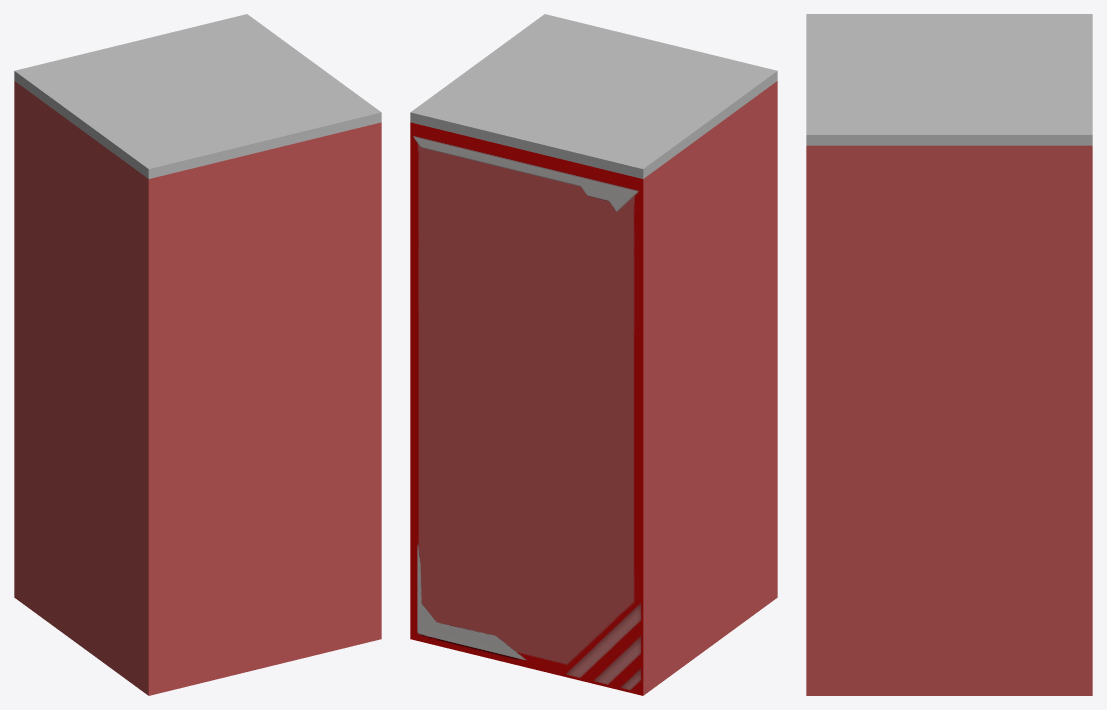
File: podium_red2.fbx
3 views of the same model, side by side, from view 1: azimuth 30°, elevation 25°; view 2: azimuth 150°, elevation 25°; view 3: azimuth 270°, elevation 25° (orthographic). The views are drawn at different scales.
Parts seen in each view (by area): view 1: Cube.001; view 2: Cube.001; view 3: Cube.001.
Part boxes in pixels (<box>): Cube.001: <box>14,14,381,695</box>; Cube.001: <box>410,14,777,695</box>; Cube.001: <box>806,14,1092,695</box>.
Size of the model in its own units: 2 by 4.32 by 2.
